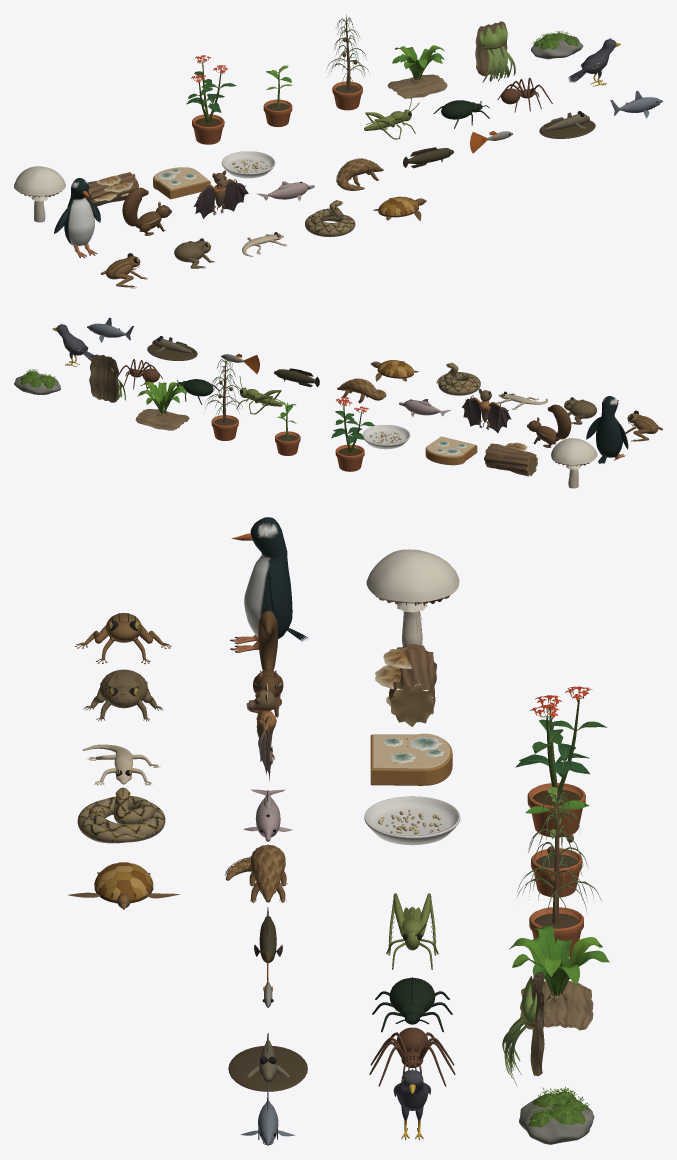
File: living-things.glb
The picture shows the model from 3 angles, top to bottom: view 1: azimuth 30°, elevation 25°; view 2: azimuth 150°, elevation 25°; view 3: azimuth 270°, elevation 25°; orthographic projection. The views are drawn at different scales.
Parts seen in each view (by area): view 1: penguin, birds-nest-fern, ixora, staghorn-fern, rhu-sapling, mushroom, fruit-bat, mouldy-bread, bracket-fungus, python, plantain-squirrel, yeast (+16 smaller); view 2: birds-nest-fern, penguin, ixora, bracket-fungus, staghorn-fern, rhu-sapling, mushroom, fruit-bat, mouldy-bread, plantain-squirrel, yeast, python (+16 smaller); view 3: birds-nest-fern, mushroom, ixora, penguin, mouldy-bread, rhu-sapling, bracket-fungus, yeast, python, moss, mudskipper, staghorn-fern (+14 smaller).
Part boxes in pixels (x1,y1,x2,y2): penguin: (54, 178, 100, 258); birds-nest-fern: (387, 45, 447, 98); ixora: (186, 55, 236, 144); staghorn-fern: (475, 21, 515, 82); rhu-sapling: (326, 14, 369, 110); mushroom: (14, 166, 65, 222); fruit-bat: (193, 170, 248, 218); mouldy-bread: (153, 167, 210, 199); bracket-fungus: (85, 172, 138, 206); python: (305, 200, 355, 236); plantain-squirrel: (122, 187, 171, 235); yeast: (221, 151, 275, 178); birds-nest-fern: (135, 381, 189, 430); penguin: (586, 396, 628, 463); ixora: (331, 397, 374, 471); bracket-fungus: (484, 442, 537, 476); staghorn-fern: (89, 354, 125, 402); rhu-sapling: (204, 355, 242, 440); mushroom: (551, 438, 597, 488); fruit-bat: (462, 388, 511, 433); mouldy-bread: (425, 436, 477, 465); plantain-squirrel: (527, 404, 571, 447); yeast: (362, 425, 410, 449); python: (436, 362, 480, 395); birds-nest-fern: (509, 926, 609, 1030); mushroom: (366, 549, 459, 646); ixora: (515, 686, 607, 837); penguin: (230, 517, 308, 652); mouldy-bread: (370, 733, 452, 785); rhu-sapling: (517, 786, 601, 956); bracket-fungus: (375, 644, 436, 726); yeast: (364, 796, 460, 845); python: (77, 787, 165, 843); moss: (519, 1087, 594, 1144); mudskipper: (228, 1033, 307, 1091); staghorn-fern: (502, 972, 544, 1085).
Bounding box in the file's own units: 0.7832 × 0.113 × 0.3386.
